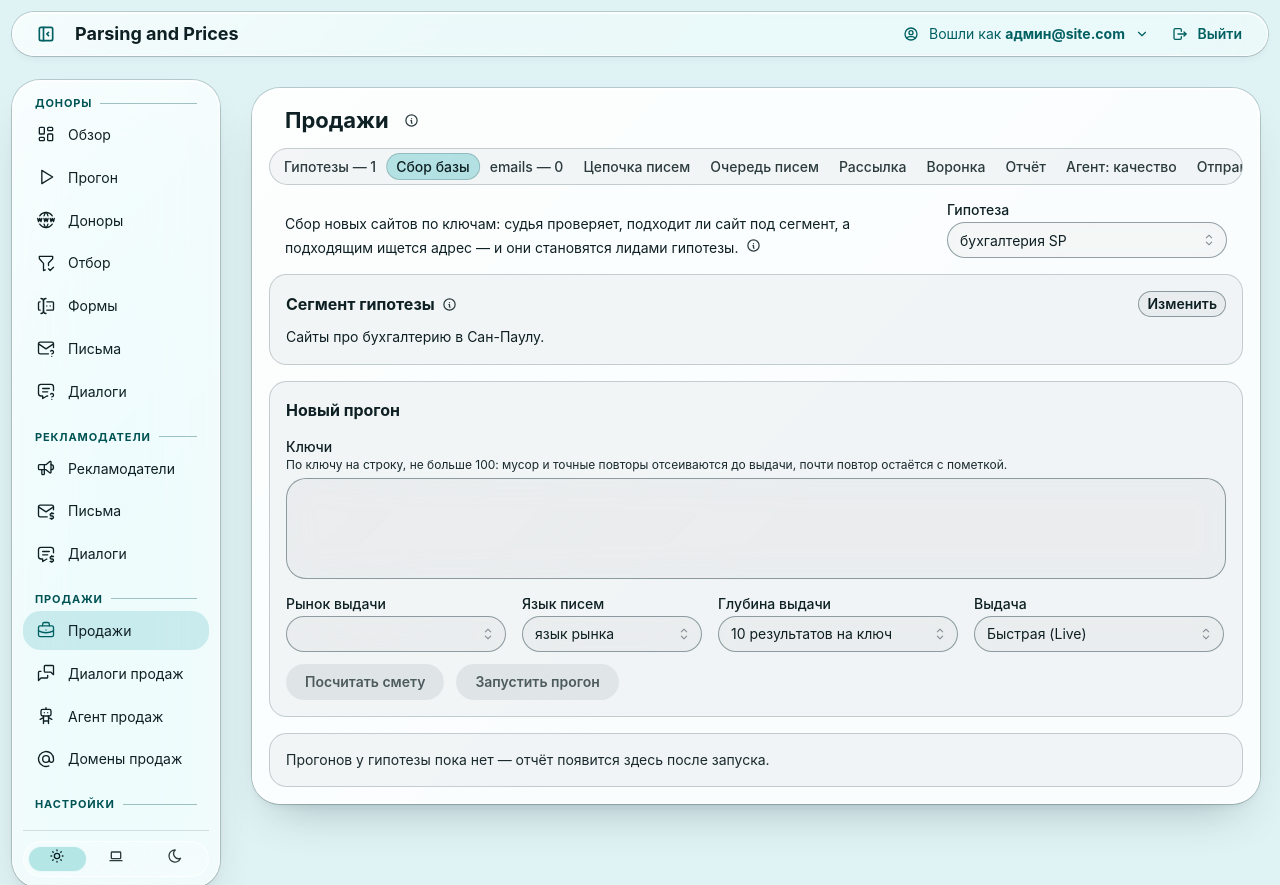
Test case: помощник описания: «Помочь с описанием» на «Сборе базы» › помощник не ответил — отказ словами сервера, поле не тронуто
Check: the heading "Сегмент гипотезы" is shown, box [286,292,435,316]
Click the button "Изменить" at coordinates (1182, 304), box [1138,291,1226,317]
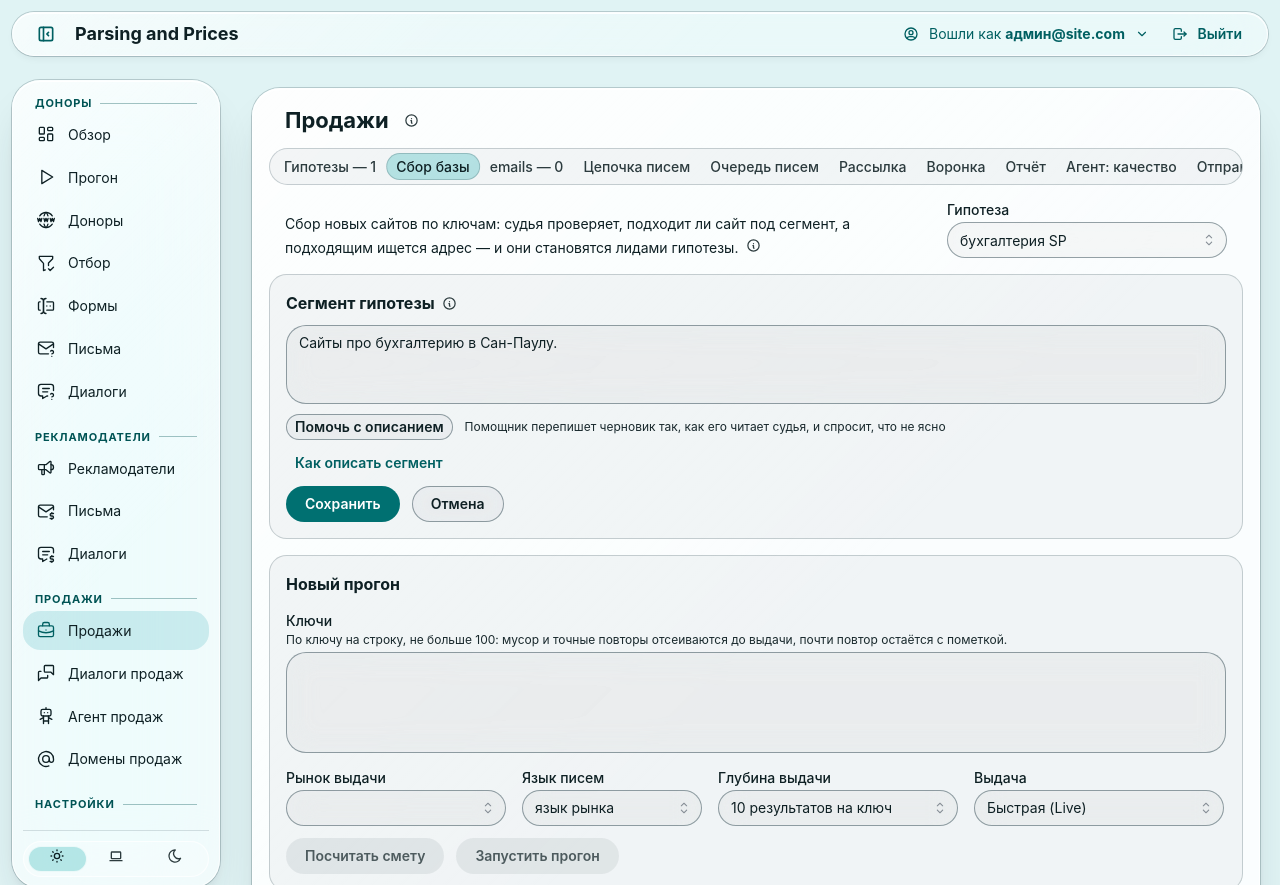
Clear the text box named "Описание сегмента" at coordinates (756, 365), box [286,325,1226,404]
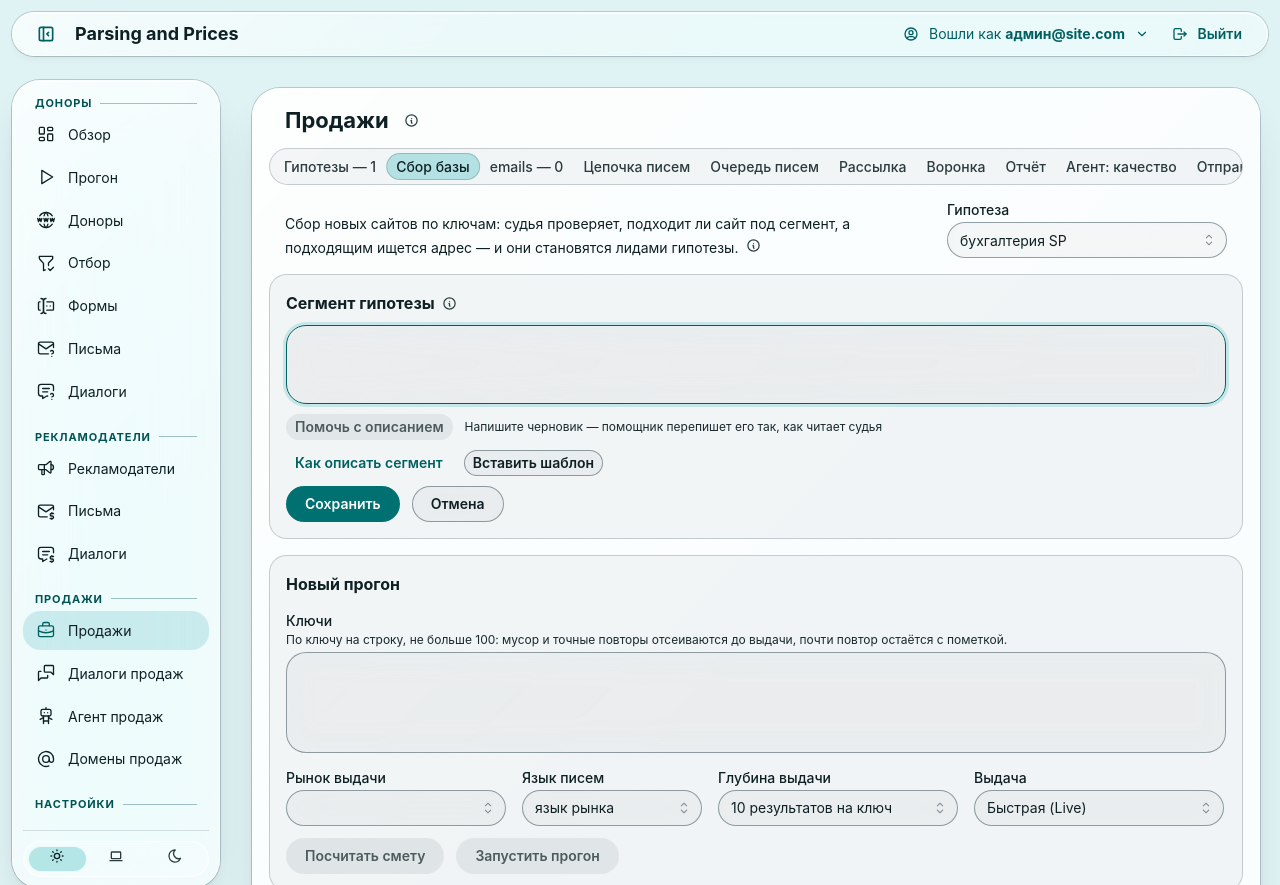
Type keys "Сайты, связанные с ветеринарными клиниками в Дублине"
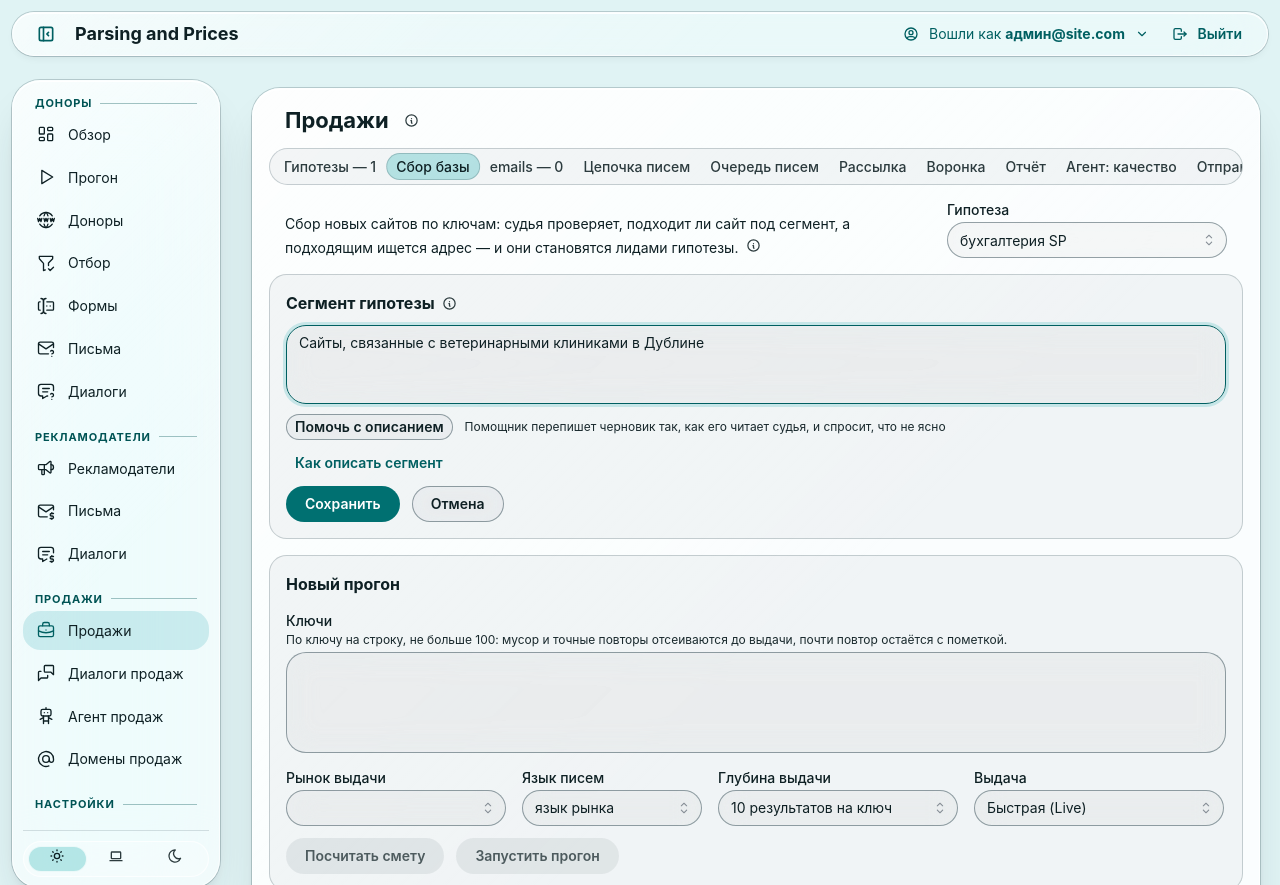
Click the button "Помочь с описанием" at coordinates (369, 427), box [286,414,453,440]
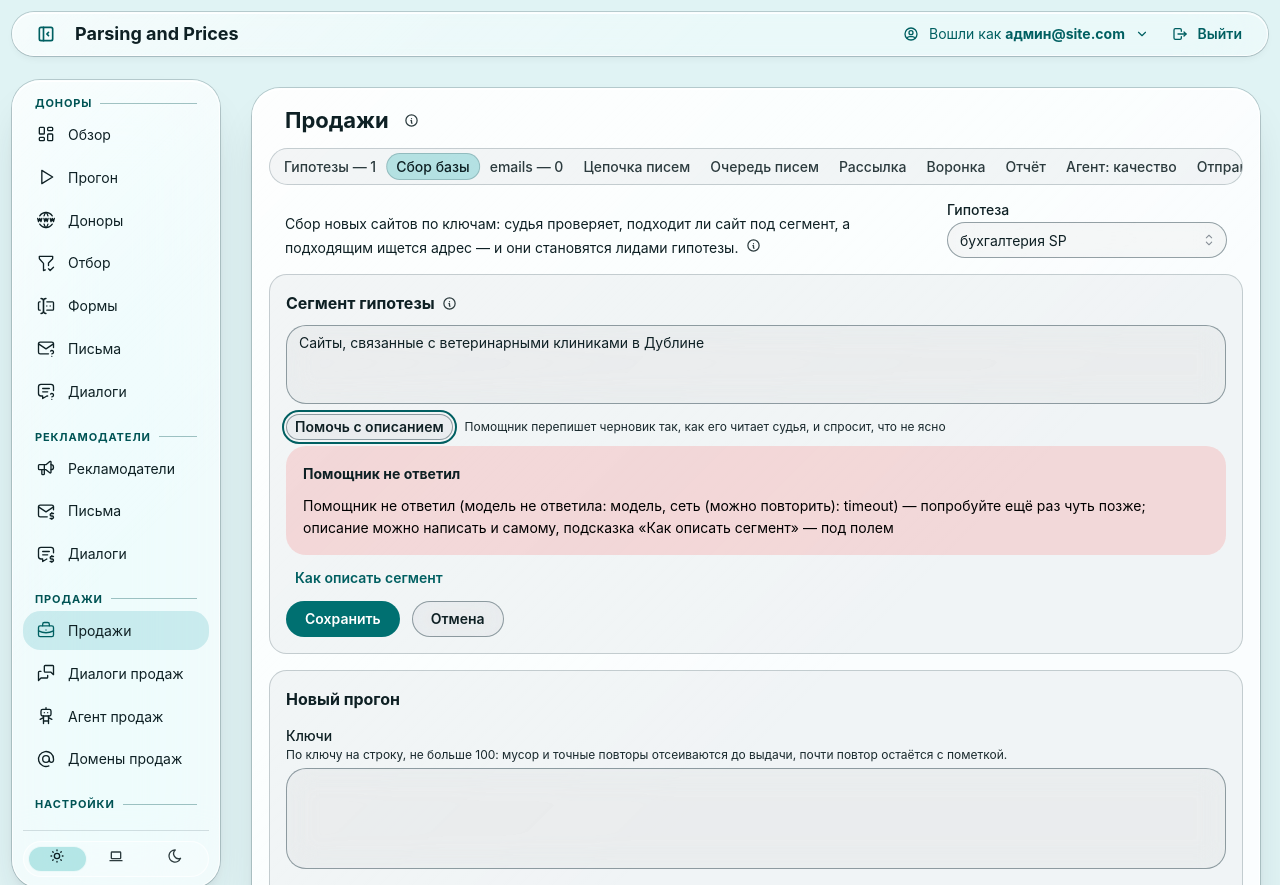
Check: the text box named "Описание сегмента" holds "Сайты, связанные с ветеринарными клиниками в Дублине", box [286,325,1226,404]
Check: the text "Помощник не ответил" is shown, box [303,463,460,485]
